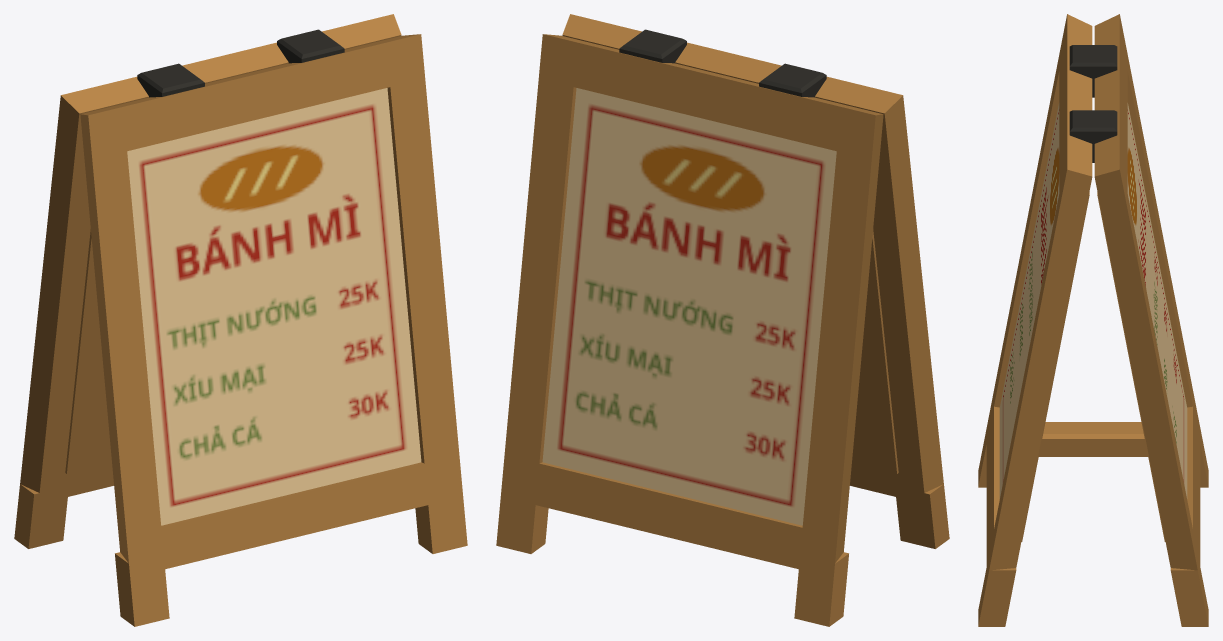
File: SM_Sign_MenuAFrame_01.fbx
The picture shows the model from 3 angles, left to right: view 1: azimuth 30°, elevation 25°; view 2: azimuth 150°, elevation 25°; view 3: azimuth 270°, elevation 25°; orthographic projection. The views are drawn at different scales.
Visible parts, largest first — view 1: SM_Sign_MenuAFrame_01; view 2: SM_Sign_MenuAFrame_01; view 3: SM_Sign_MenuAFrame_01.
Boxes of the visible parts, x1,y1,x2,y2 form: SM_Sign_MenuAFrame_01: (14,14,467,626); SM_Sign_MenuAFrame_01: (496,14,949,626); SM_Sign_MenuAFrame_01: (978,14,1208,626).
Bounding box in the file's own units: 0.62 × 0.8598 × 0.3883.
1 material, 1 textured.
